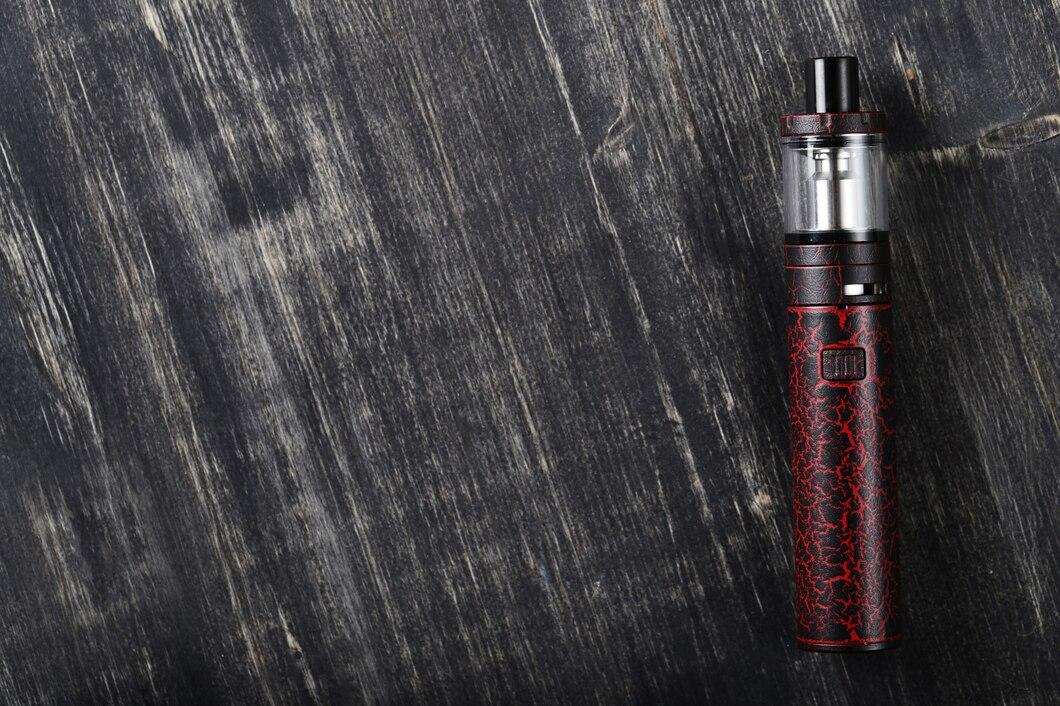Vape: (780, 55, 899, 650)
